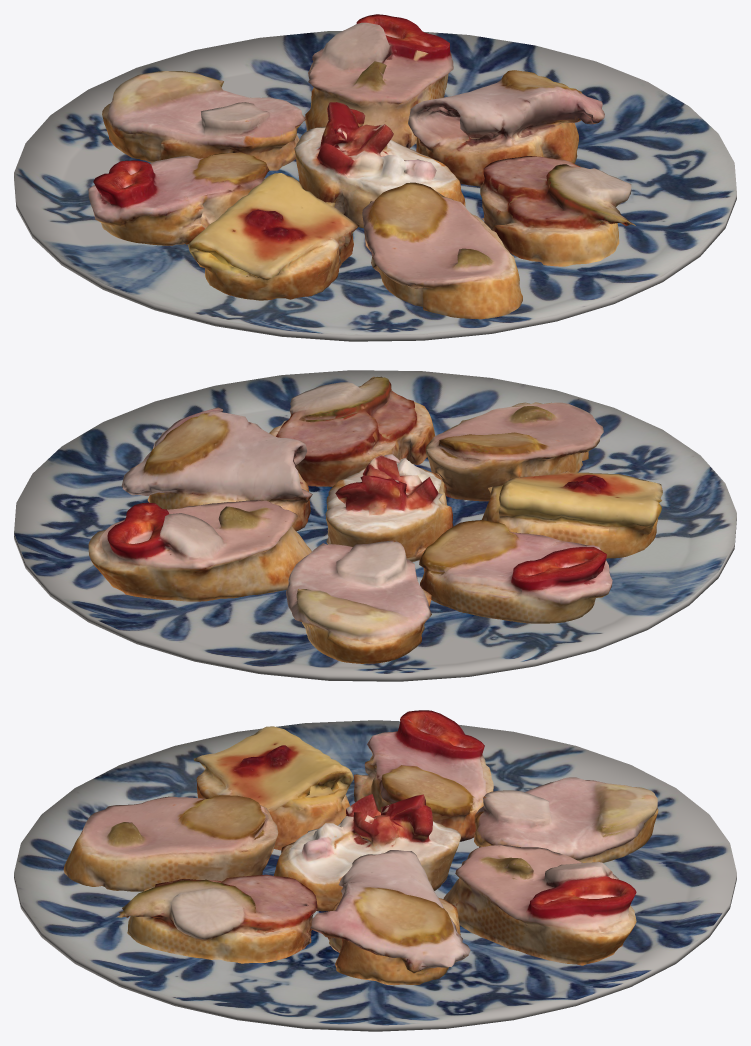
3 views of the same model, one above another, from view 1: azimuth 30°, elevation 25°; view 2: azimuth 150°, elevation 25°; view 3: azimuth 270°, elevation 25° (orthographic).
Visible parts, largest first — view 1: LOW, plate; view 2: LOW, plate; view 3: LOW, plate.
Boxes of the visible parts, x1,y1,x2,y2 form: LOW: (88, 14, 635, 319); plate: (14, 31, 736, 341); LOW: (88, 376, 662, 663); plate: (14, 370, 736, 681); LOW: (63, 710, 658, 985); plate: (14, 720, 736, 1031).
Size of the model in its own units: 0.4006 by 0.4006 by 0.0539.
